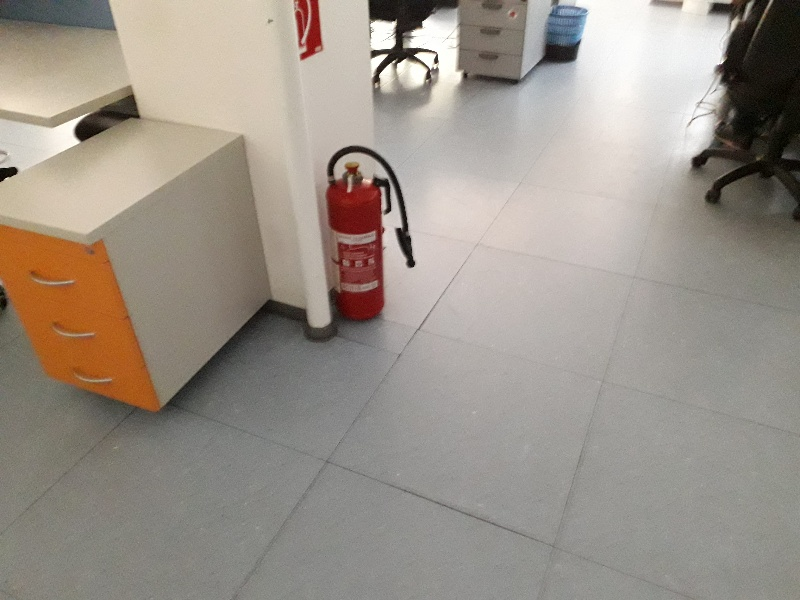vataparat: (322, 143, 415, 322)
